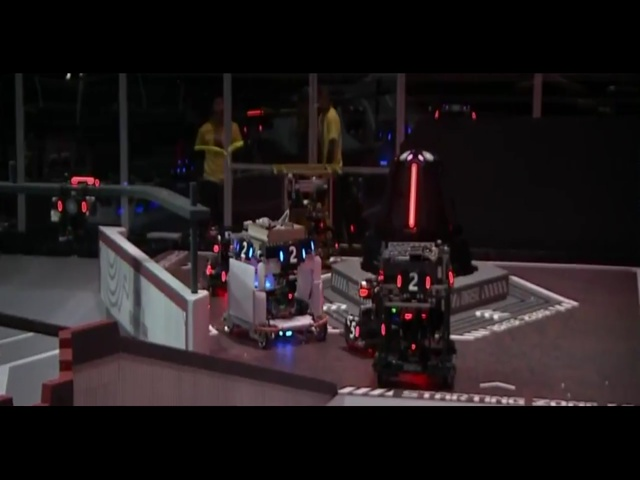plate: (202, 263, 251, 305), (383, 197, 428, 226), (401, 364, 435, 401), (289, 258, 318, 296), (163, 221, 192, 253), (115, 224, 139, 260), (464, 189, 490, 222)
